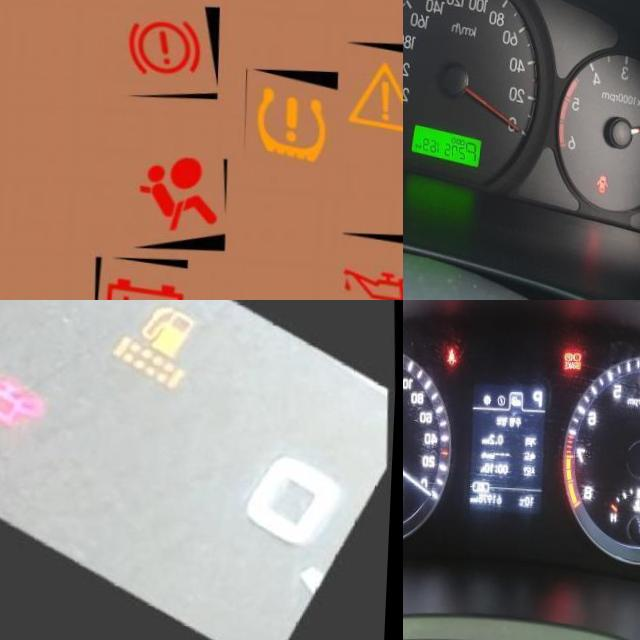Doors: (602, 169, 613, 187)
Low fuel level: (136, 300, 211, 363)
